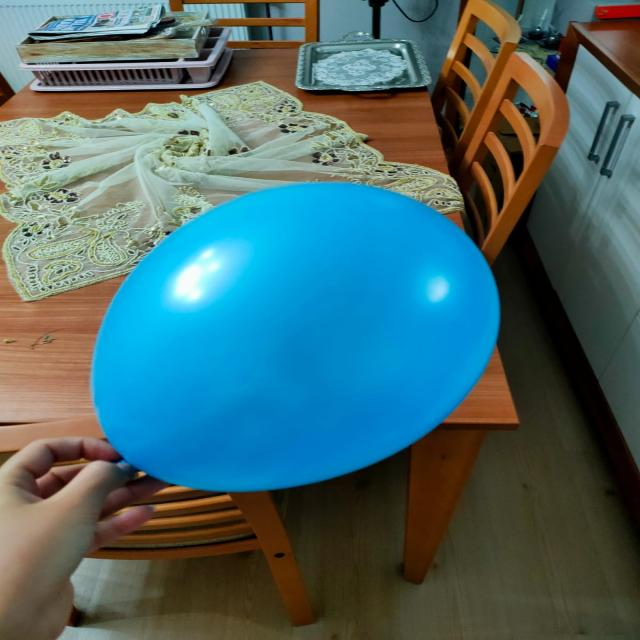blue: (94, 184, 500, 491)
